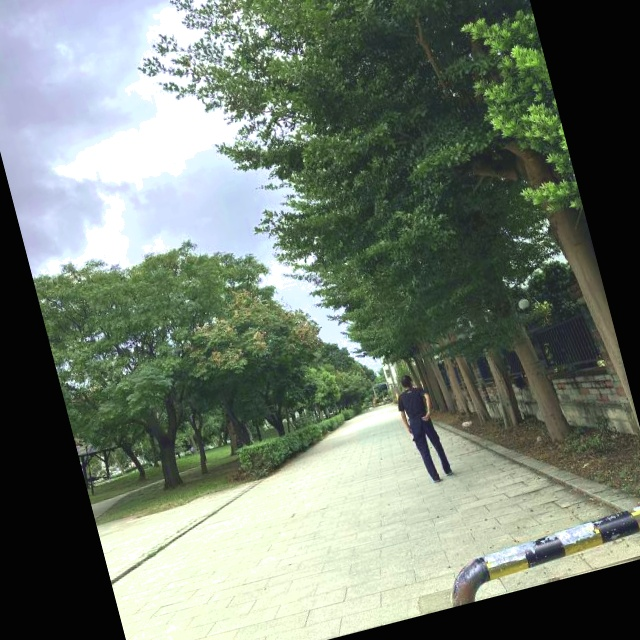Sin_Casco_Mascarrilla: (399, 374, 414, 390)
Sin_Chaleco: (399, 386, 430, 420)
